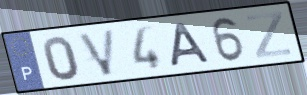0: (40, 33, 82, 82)
4: (130, 24, 165, 72)
6: (210, 16, 247, 63)
A: (169, 20, 213, 69)
V: (76, 27, 118, 79)
Z: (244, 9, 294, 60)
